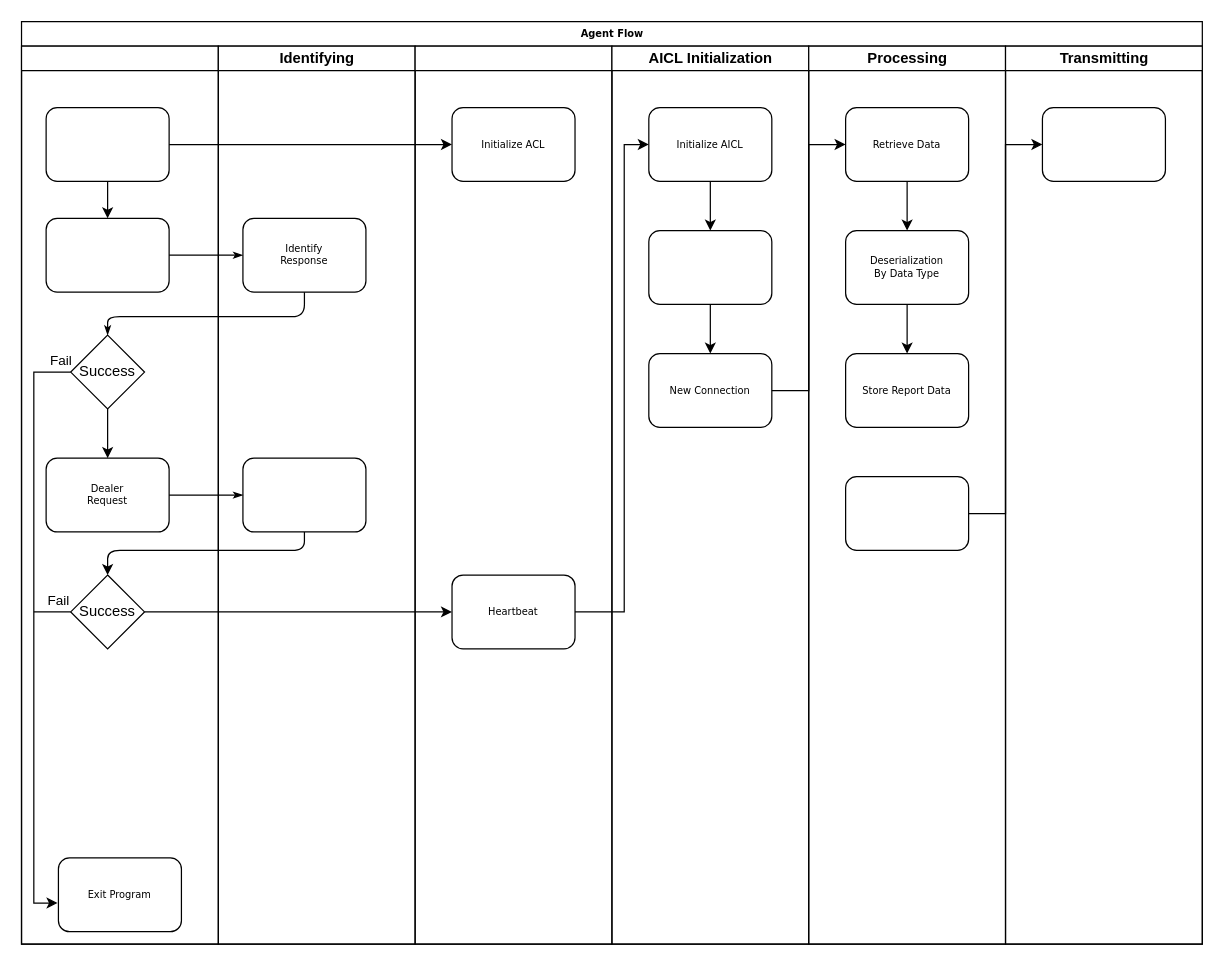
The diagram is 1224 pixels wide and 966 high, and some of its shapes have lost their labels. The shapes that lost their labels are listed below. From the top down, each one's box as (x1, y1, x2, y2) in pixels, then its label:
(45, 106, 169, 181): Load Configurations
(1041, 106, 1165, 181): Send Reports
(45, 217, 169, 292): Identify Request
(648, 229, 772, 304): Start AICLWs Server
(20, 45, 218, 944): Bootstrapping
(242, 457, 366, 532): Dealer Response
(414, 45, 612, 944): ACL Initialization
(844, 475, 969, 550): 10 Second Timer
